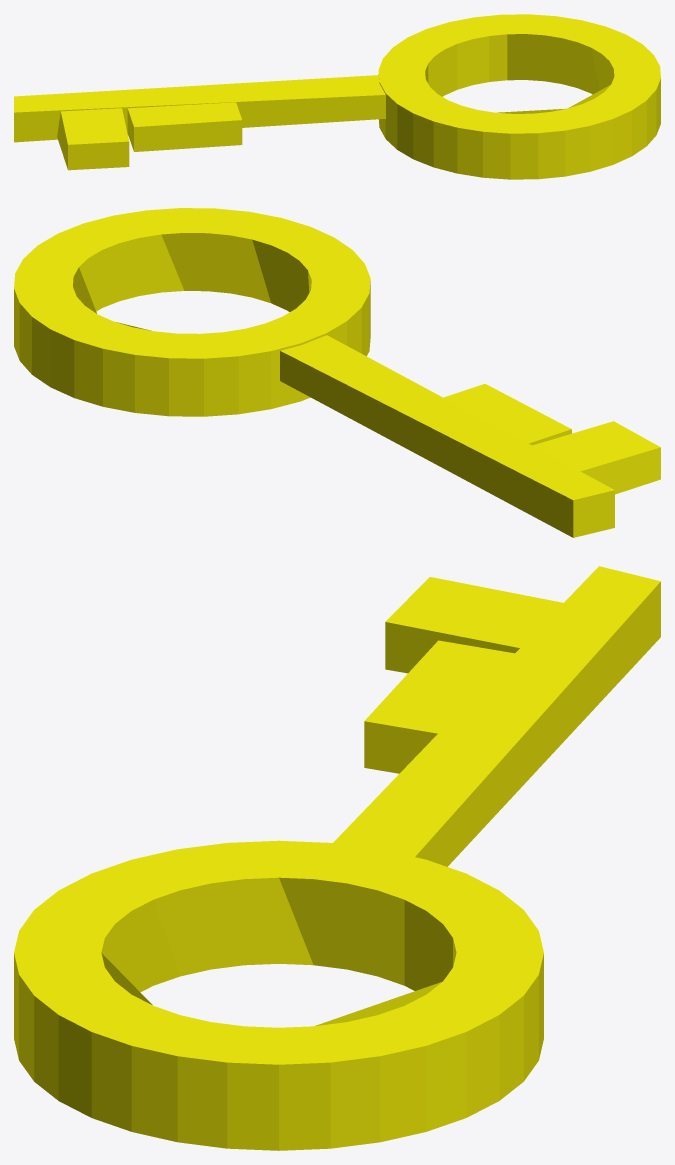
File: key.glb
The picture shows the model from 3 angles, top to bottom: view 1: azimuth 30°, elevation 25°; view 2: azimuth 150°, elevation 25°; view 3: azimuth 270°, elevation 25°; orthographic projection. The views are drawn at different scales.
Visible parts, largest first — view 1: Cube; view 2: Cube; view 3: Cube.
Boxes of the visible parts, x1,y1,x2,y2 form: Cube: (14,14,660,179); Cube: (14,208,660,537); Cube: (14,566,660,1150).
Size of the model in its own units: 4.43 by 0.3693 by 2.44.
